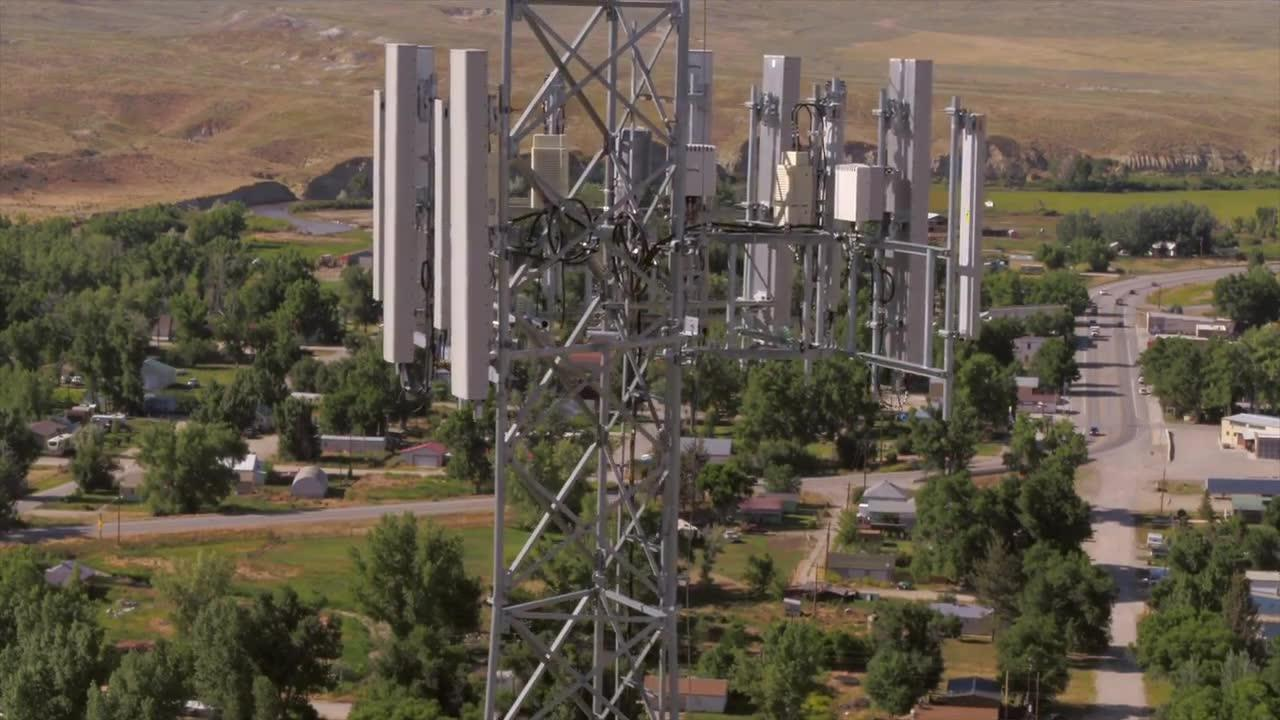antenna: (439, 42, 508, 411), (883, 27, 945, 381), (739, 34, 807, 351), (376, 38, 432, 369), (819, 29, 852, 340), (957, 104, 992, 354), (687, 49, 724, 232)
